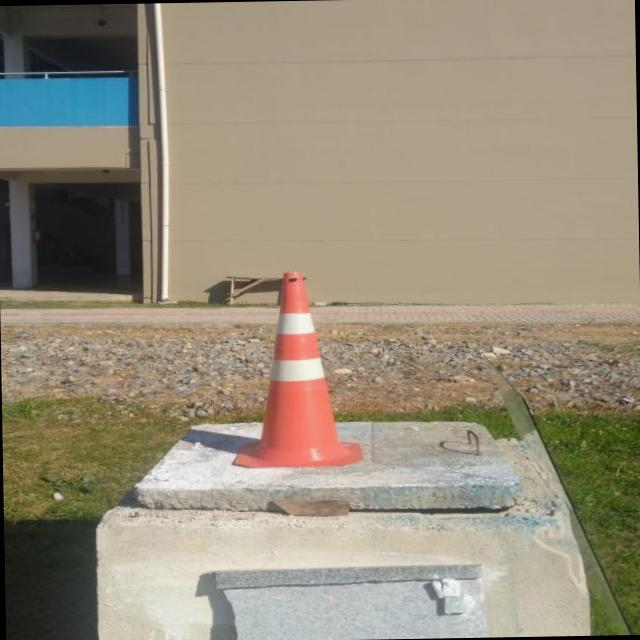Cone: (230, 266, 364, 468)
